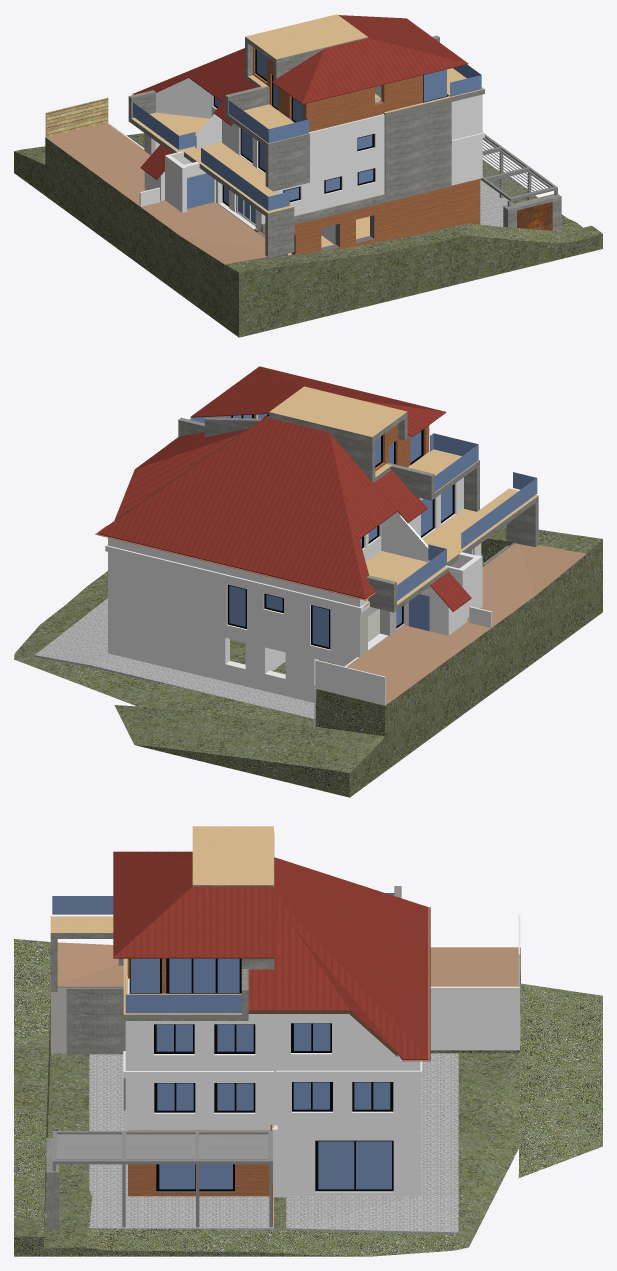
File: 3dExport.glb
The picture shows the model from 3 angles, top to bottom: view 1: azimuth 30°, elevation 25°; view 2: azimuth 150°, elevation 25°; view 3: azimuth 270°, elevation 25°; orthographic projection. The views are drawn at different scales.
Parts seen in each view (by area): view 1: Toposolid_Toposolid_<20279369_Terénní_útvar_1<, Toposolid_Toposolid_<20266496_Terénní_útvar_1<, FootPrintRoof_Roofs_<20652048_25-Střecha_4<, Toposolid_Toposolid_<20576967_Sub-Division<, 0_Stěna_475původní_+prkna_1, Wall_Walls_<20652122_Stěna_beton_90<, 25-balkon_3, 0_Stěna_475_-_přitepli2_2_17, 25-balkon_7, 0_Stěna_475_-_přitepli2_2_7, FootPrintRoof_Roofs_<20609544_25-Střecha_4<, Wall_Walls_<20652111_Stěna_300_beton< (+34 smaller); view 2: FootPrintRoof_Roofs_<20609544_25-Střecha_4<, Toposolid_Toposolid_<20266496_Terénní_útvar_1<, Toposolid_Toposolid_<20279369_Terénní_útvar_1<, Wall_Walls_<20266477_0_Stěna_475původní<, Toposolid_Toposolid_<20576967_Sub-Division<, 0_Stěna_475původní_8, Floor_Floors_<20600366_dlažba-terasa_v_zahradě<, FootPrintRoof_Roofs_<20652048_25-Střecha_4<, 25-balkon_3, 25-balkon_7, Střecha_4, Stěna_75-plot_1 (+24 smaller); view 3: Toposolid_Toposolid_<20266496_Terénní_útvar_1<, Toposolid_Toposolid_<20279369_Terénní_útvar_1<, FootPrintRoof_Roofs_<20609544_25-Střecha_4<, FootPrintRoof_Roofs_<20652048_25-Střecha_4<, Floor_Floors_<20600366_dlažba-terasa_v_zahradě<, Floor_Floors_<20576661_dlažba-terasa_v_zahradě<, Toposolid_Toposolid_<20576967_Sub-Division<, Wall_Walls_<20387074_0_Stěna_475původní<, Generic_Models_1, 0_Stěna_475_-_přitepli2_2_11, Wall_Walls_<20266478_0_Stěna_475původní<, 0_Stěna_475_-_přitepli2_2_5 (+31 smaller).
Part boxes in pixels (x1,y1,x2,y2): Toposolid_Toposolid_<20279369_Terénní_útvar_1<: (14,133,602,337); Toposolid_Toposolid_<20266496_Terénní_útvar_1<: (45,137,582,326); FootPrintRoof_Roofs_<20652048_25-Střecha_4<: (272,15,468,104); Toposolid_Toposolid_<20576967_Sub-Division<: (46,123,267,264); 0_Stěna_475původní_+prkna_1: (258,180,473,254); Wall_Walls_<20652122_Stěna_beton_90<: (384,102,451,202); 25-balkon_3: (245,14,367,59); 0_Stěna_475_-_přitepli2_2_17: (317,114,384,173); 25-balkon_7: (131,112,293,213); 0_Stěna_475_-_přitepli2_2_7: (317,157,384,210); FootPrintRoof_Roofs_<20609544_25-Střecha_4<: (133,48,245,102); Wall_Walls_<20652111_Stěna_300_beton<: (265,138,309,189); FootPrintRoof_Roofs_<20609544_25-Střecha_4<: (97,416,397,599); Toposolid_Toposolid_<20266496_Terénní_útvar_1<: (14,554,586,771); Toposolid_Toposolid_<20279369_Terénní_útvar_1<: (114,525,602,797); Wall_Walls_<20266477_0_Stěna_475původní<: (108,596,356,702); Toposolid_Toposolid_<20576967_Sub-Division<: (317,543,586,705); 0_Stěna_475původní_8: (116,554,359,657); Floor_Floors_<20600366_dlažba-terasa_v_zahradě<: (34,598,314,719); FootPrintRoof_Roofs_<20652048_25-Střecha_4<: (190,366,446,437); 25-balkon_3: (269,386,406,436); 25-balkon_7: (366,488,538,604); Střecha_4: (114,429,245,519); Stěna_75-plot_1: (315,660,385,705); Toposolid_Toposolid_<20266496_Terénní_útvar_1<: (44,948,520,1256); Toposolid_Toposolid_<20279369_Terénní_útvar_1<: (14,939,602,1256); FootPrintRoof_Roofs_<20609544_25-Střecha_4<: (274,857,428,1059); FootPrintRoof_Roofs_<20652048_25-Střecha_4<: (113,851,274,958); Floor_Floors_<20600366_dlažba-terasa_v_zahradě<: (286,1053,458,1234); Floor_Floors_<20576661_dlažba-terasa_v_zahradě<: (89,1054,273,1230); Toposolid_Toposolid_<20576967_Sub-Division<: (57,942,520,986); Wall_Walls_<20387074_0_Stěna_475původní<: (430,986,520,1050); Generic_Models_1: (56,1132,268,1159); 0_Stěna_475_-_přitepli2_2_11: (125,1078,270,1130); Wall_Walls_<20266478_0_Stěna_475původní<: (272,1125,409,1197); 0_Stěna_475_-_přitepli2_2_5: (125,1014,275,1070).
Bounding box in the file's own units: 24.18 × 12.87 × 25.9.
29 materials, 11 textured.
